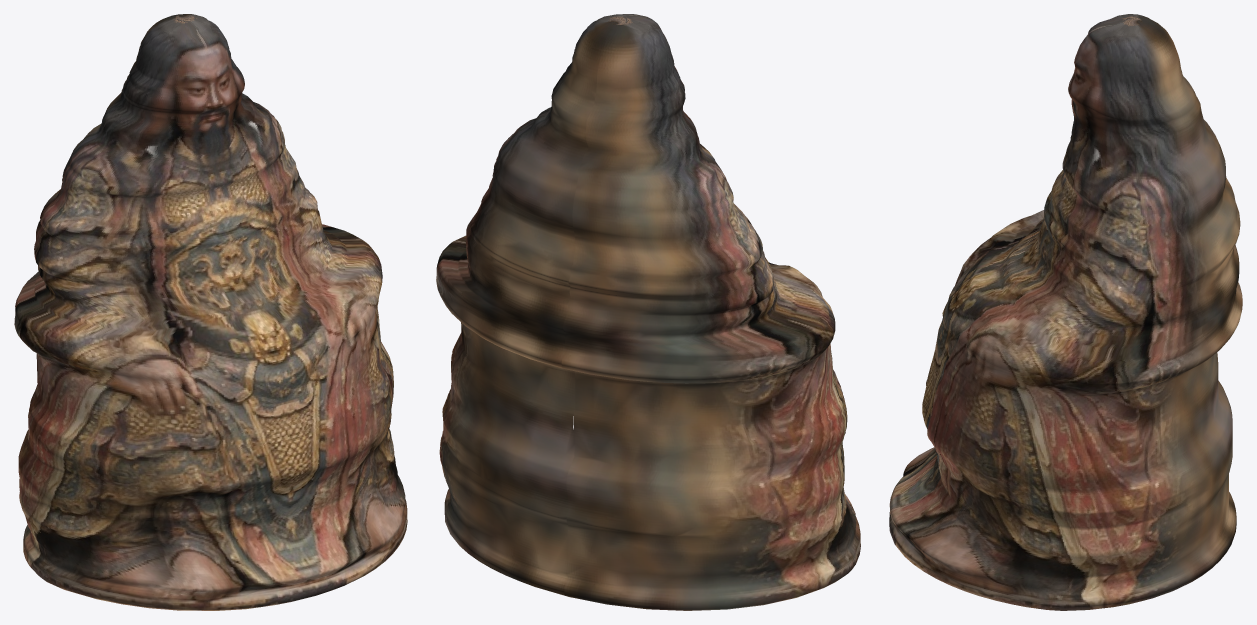
The model's file is zhenwu.glb.
3 views of the same model, side by side, from view 1: azimuth 30°, elevation 25°; view 2: azimuth 150°, elevation 25°; view 3: azimuth 270°, elevation 25° (orthographic). The views are drawn at different scales.
Parts seen in each view (by area): view 1: zhenwu; view 2: zhenwu; view 3: zhenwu.
Part boxes in pixels (x1,y1,x2,y2): zhenwu: [14, 14, 407, 610]; zhenwu: [436, 14, 860, 610]; zhenwu: [889, 14, 1242, 610].
Bounding box in the file's own units: 0.7423 × 1 × 0.6324.
Materials: 1 (1 with a texture image).
